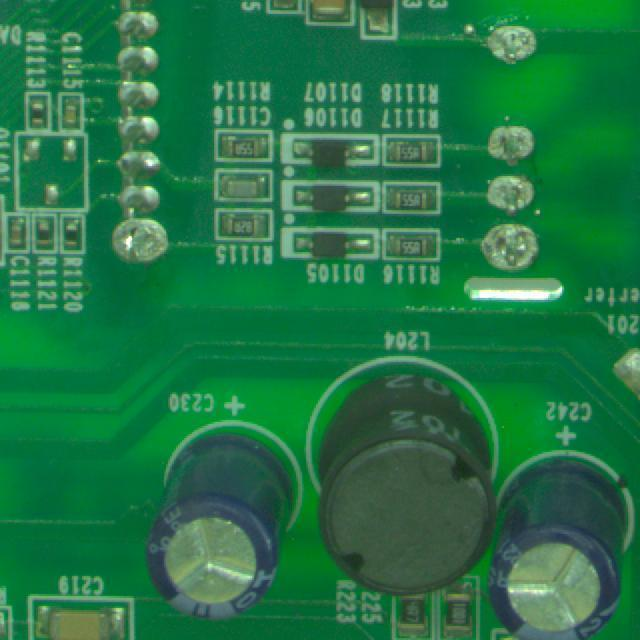Insufficient solder: (479, 219, 541, 271)
